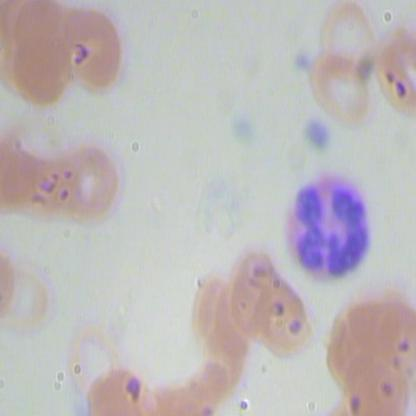Platelets: (302, 118, 330, 151)
RBC: (59, 3, 126, 94), (305, 47, 378, 130), (245, 274, 318, 357), (60, 130, 122, 224), (10, 29, 67, 106), (64, 318, 120, 394), (188, 270, 244, 346), (339, 353, 408, 414)
WBC: (283, 168, 375, 285)
